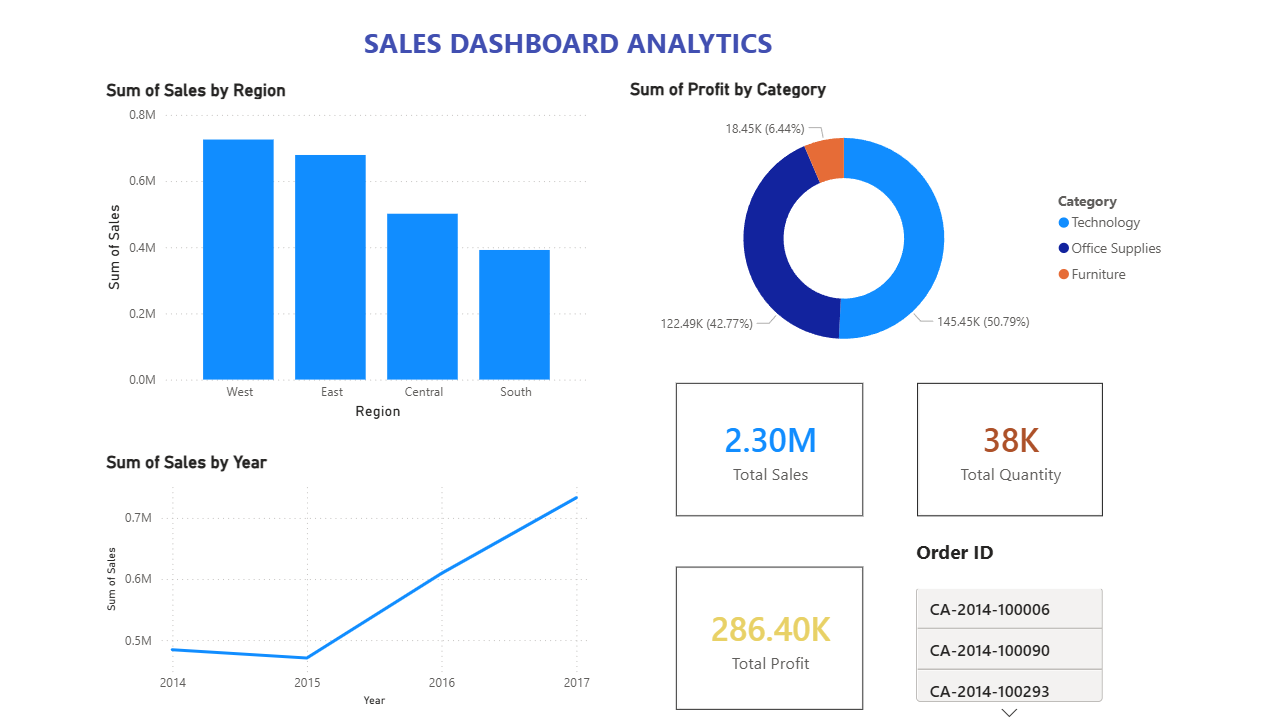

The page's visual inventory and layout, read from the dashboard file:
{"tool":"powerbi","page":{"name":"Page 1","canvas":[1280,720],"ordinal":0},"visuals":[{"type":"clusteredColumnChart","fields":{"Category":["Sample - Superstore.Region"],"Y":["Sum(Sample - Superstore.Sales)"]},"box":[108.4,85.1,483,337.6],"z":0},{"type":"donutChart","fields":{"Category":["Sample - Superstore.Category"],"Y":["Sum(Sample - Superstore.Profit)"]},"box":[621.4,84.3,538.6,292.9],"z":1000},{"type":"cardVisual","fields":{"Data":["Sum(Sample - Superstore.Sales)"]},"box":[654.3,365.7,217.1,164.3],"z":2000},{"type":"cardVisual","fields":{"Data":["Sum(Sample - Superstore.Profit)"]},"box":[654.3,545.7,217.1,174.3],"z":3000},{"type":"cardVisual","fields":{"Data":["Sum(Sample - Superstore.Quantity)"]},"box":[890,365.7,215.7,164.3],"z":4000},{"type":"cardVisual","fields":{"Rows":["Sample - Superstore.Order ID"]},"box":[901.4,557.1,192.9,162.9],"z":5000},{"type":"lineChart","fields":{"Category":["Sample - Superstore.Order Date.Variation.Date Hierarchy.Year","Sample - Superstore.Order Date.Variation.Date Hierarchy.Quarter","Sample - Superstore.Order Date.Variation.Date Hierarchy.Month","Sample - Superstore.Order Date.Variation.Date Hierarchy.Day"],"Y":["Sum(Sample - Superstore.Sales)"]},"box":[108.4,450.1,483,253.9],"z":6000},{"type":"textbox","box":[155.3,25.7,820.5,58.7],"z":7000},{"type":"textbox","box":[901.4,530,378.6,54.3],"z":8000}]}

Visuals, with their boxes in screenshot pixels (x1, y1, x2, y2), scaled from the page's 1280x720 canvas onto the 1278x726 screenshot:
clusteredColumnChart - Sample - Superstore.Region x Sum(Sample - Superstore.Sales): locate(108, 86, 590, 426)
donutChart - Sample - Superstore.Category x Sum(Sample - Superstore.Profit): locate(620, 85, 1158, 380)
cardVisual - Sum(Sample - Superstore.Sales): locate(653, 369, 870, 534)
cardVisual - Sum(Sample - Superstore.Profit): locate(653, 550, 870, 725)
cardVisual - Sum(Sample - Superstore.Quantity): locate(889, 369, 1104, 534)
cardVisual - Sample - Superstore.Order ID: locate(900, 562, 1093, 725)
lineChart - Sample - Superstore.Order Date.Variation.Date Hierarchy.Year x Sample - Superstore.Order Date.Variation.Date Hierarchy.Quarter: locate(108, 454, 590, 710)
textbox: locate(155, 26, 974, 85)
textbox: locate(900, 534, 1277, 589)
